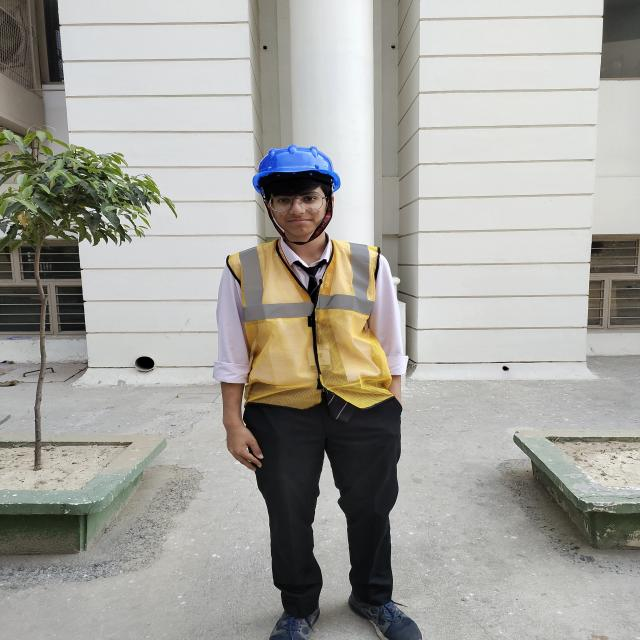safe: (213, 144, 408, 640)
